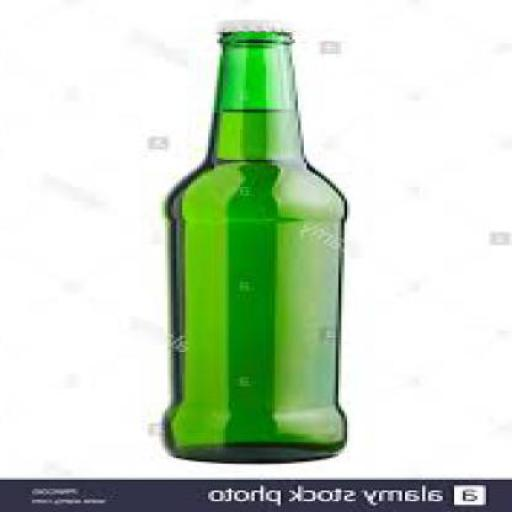glass: (165, 30, 353, 464)
metal: (225, 18, 298, 30)
